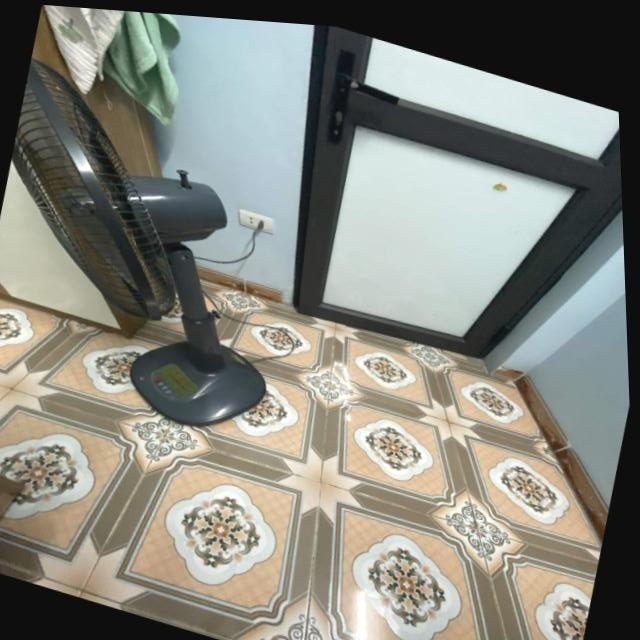outlet: (234, 209, 277, 237)
